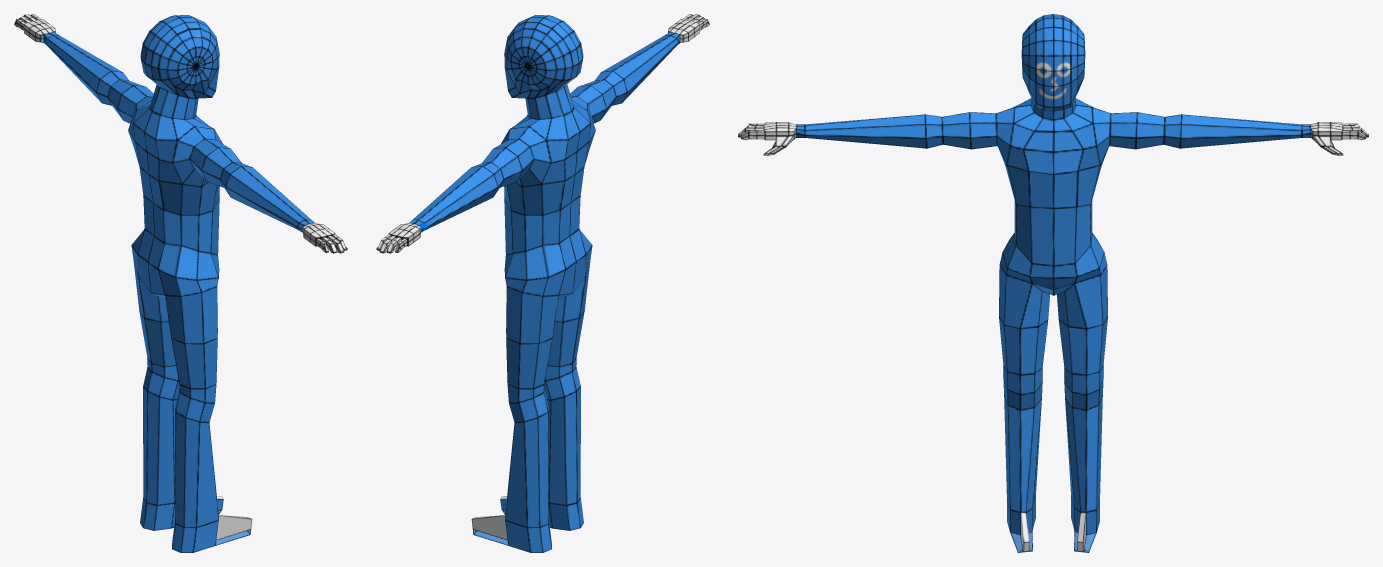
Rendered from Protagonist.fbx.
3 renders of one model, left to right at view 1: azimuth 30°, elevation 25°; view 2: azimuth 150°, elevation 25°; view 3: azimuth 270°, elevation 25°, orthographic.
Visible parts, largest first — view 1: Protagonist.001; view 2: Protagonist.001; view 3: Protagonist.001.
Part boxes in pixels (x1=…): Protagonist.001: x1=14, y1=14, x2=347, y2=552; Protagonist.001: x1=376, y1=14, x2=709, y2=552; Protagonist.001: x1=738, y1=14, x2=1368, y2=552.
Bounding box in the file's own units: 102 × 541 × 604.
1 material, 1 textured.
